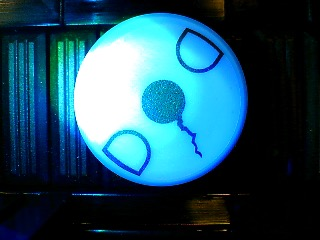CRACK: (74, 13, 249, 187)
